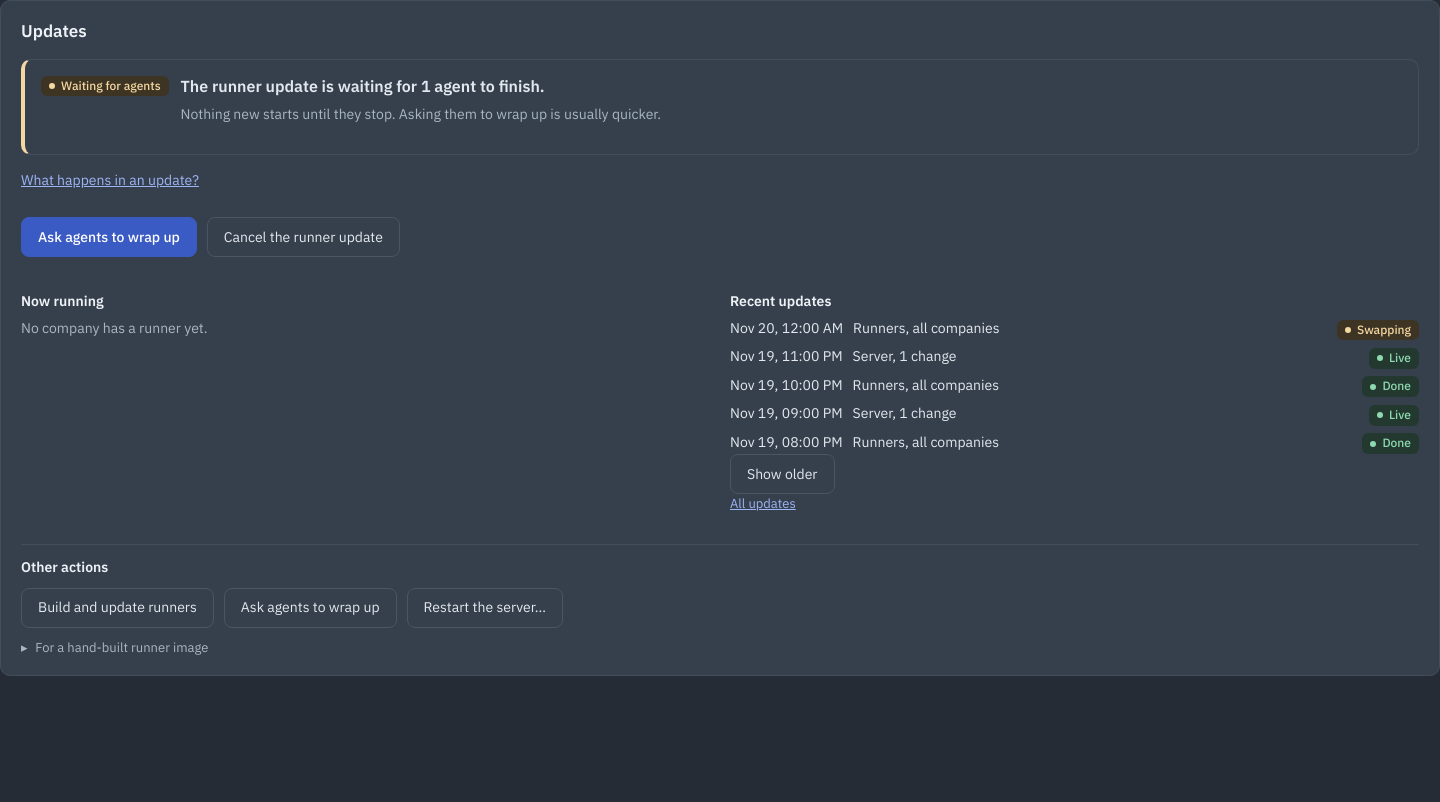
Test: Recent updates: Show older › loads 10 older rows per press, hides the button on a short page, and keeps older runner rows out of Swapping
Expected: the list item with class "upd-row" shows "Swapping", [1357,322,1411,337]
What coordinates should you click on to do the following:
click the button "Show older"
I would click on:
 (782, 474)
Its box is [730,454,834,494].
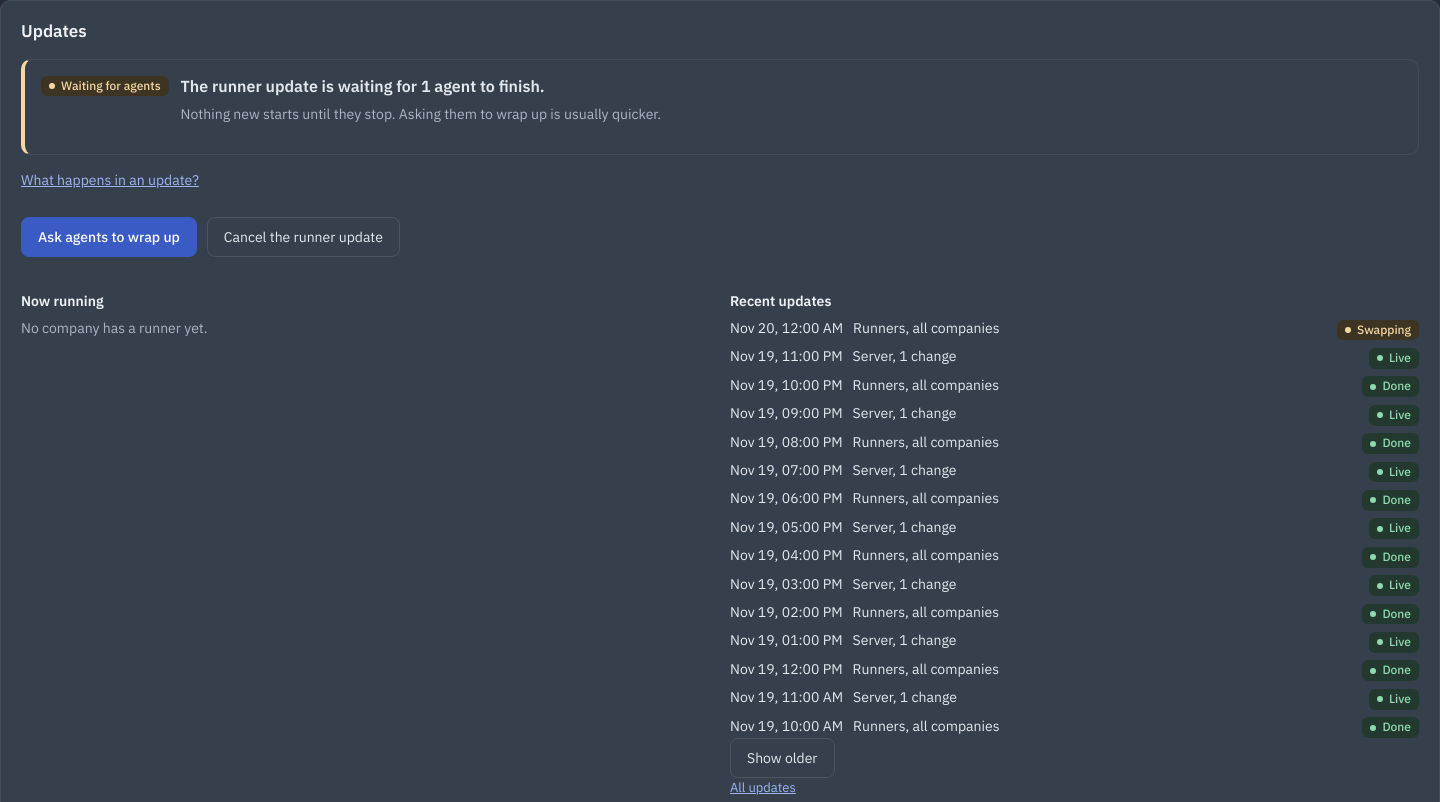
What coordinates should you click on to do the following:
click the button "Show older"
I would click on:
 (782, 758)
Its box is [730,738,834,778].
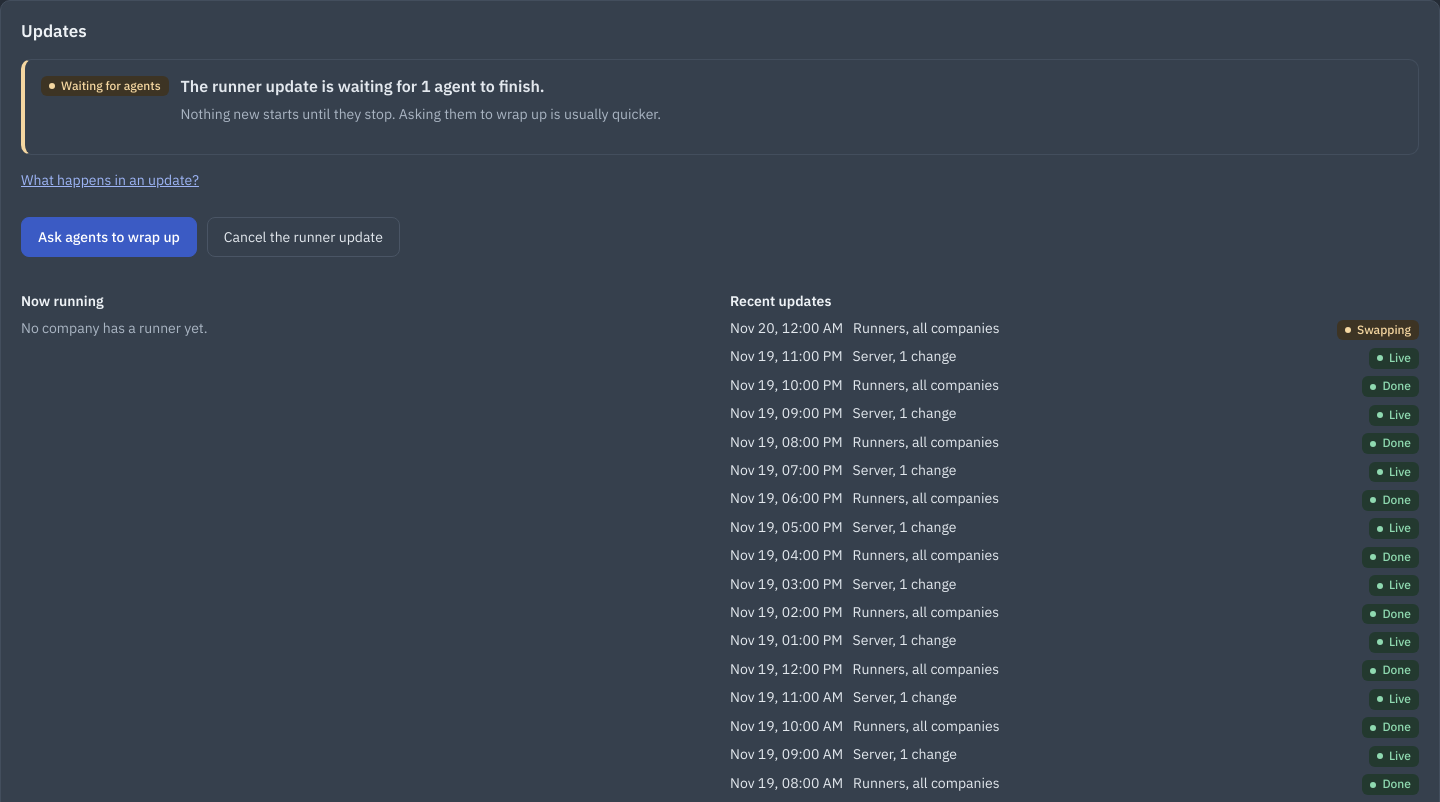
Result: the button "Show older" is gone
